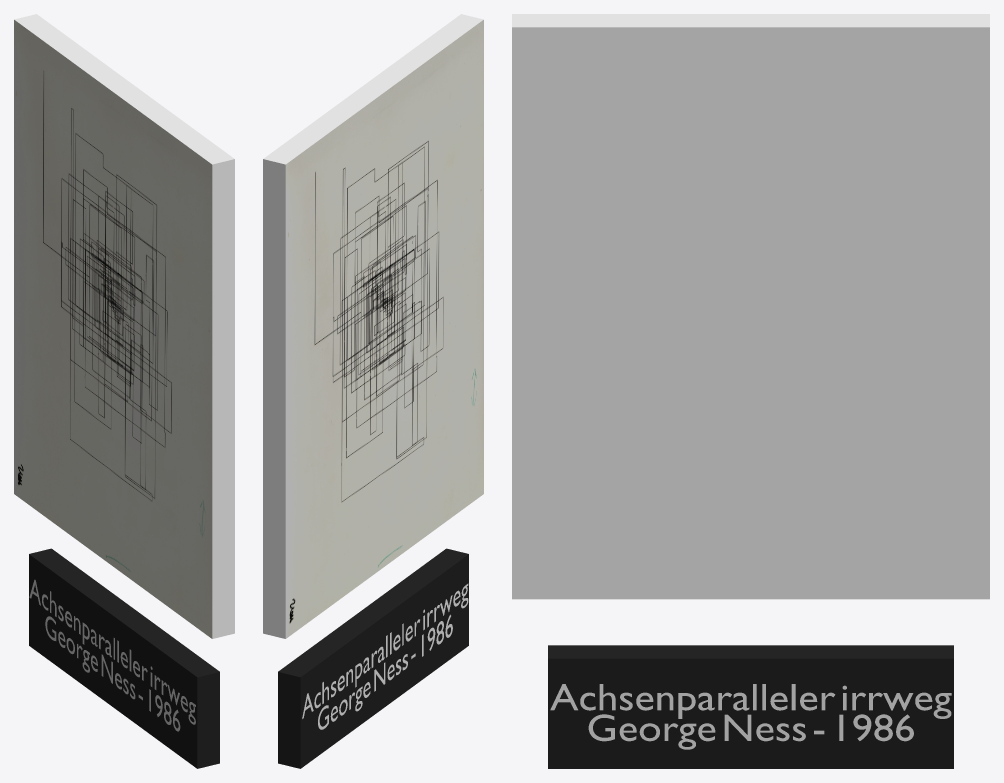
The model's file is GeorgesNess - Achsenparalleler Irrweg.fbx.
The picture shows the model from 3 angles, left to right: view 1: azimuth 30°, elevation 25°; view 2: azimuth 150°, elevation 25°; view 3: azimuth 270°, elevation 25°; orthographic projection. The views are drawn at different scales.
Visible parts, largest first — view 1: Georges Ness-achsenparalleler irrweg-1986, Pancarte, Text; view 2: Georges Ness-achsenparalleler irrweg-1986, Pancarte, Text; view 3: Georges Ness-achsenparalleler irrweg-1986, Pancarte, Text.001.
Part boxes in pixels (x1,y1,x2,y2): Georges Ness-achsenparalleler irrweg-1986: [14, 14, 234, 638]; Pancarte: [29, 548, 219, 768]; Text: [29, 579, 195, 731]; Georges Ness-achsenparalleler irrweg-1986: [263, 14, 483, 638]; Pancarte: [278, 548, 468, 768]; Text: [302, 583, 468, 729]; Georges Ness-achsenparalleler irrweg-1986: [512, 14, 989, 599]; Pancarte: [548, 645, 953, 768]; Text.001: [550, 684, 951, 749].
Bounding box in the file's own units: 5.2 × 130 × 75.69.
4 materials, 1 textured.
